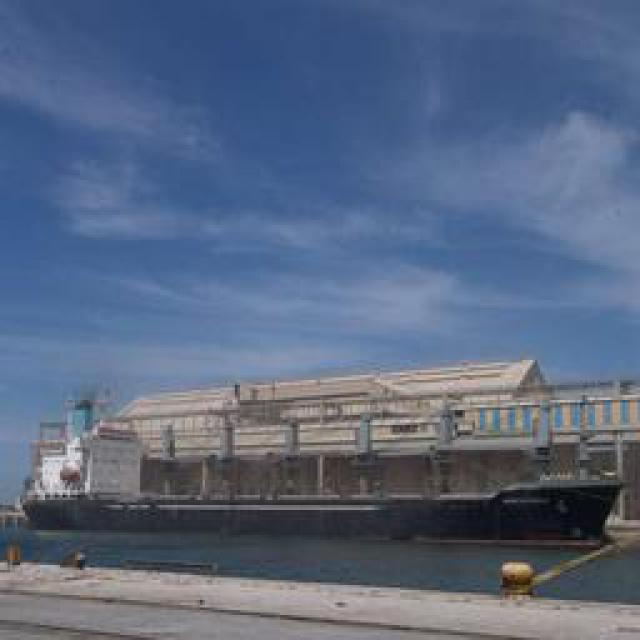Ship: (9, 416, 634, 550)
